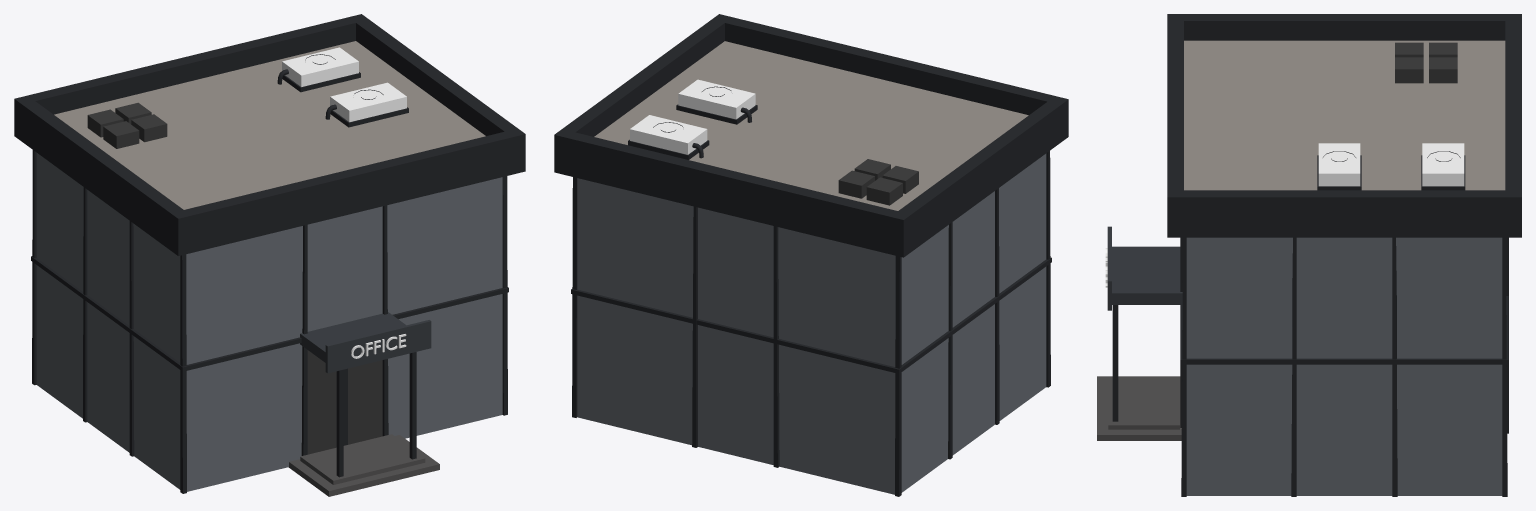
The model's file is Office_1.fbx.
The picture shows the model from 3 angles, left to right: view 1: azimuth 30°, elevation 25°; view 2: azimuth 150°, elevation 25°; view 3: azimuth 270°, elevation 25°; orthographic projection. The views are drawn at different scales.
Visible parts, largest first — view 1: Office_1; view 2: Office_1; view 3: Office_1.
Part boxes in pixels (x1,y1,x2,y2): Office_1: [14, 14, 525, 496]; Office_1: [554, 14, 1068, 496]; Office_1: [1097, 14, 1521, 496].
Size of the model in its own units: 1400 by 1091 by 1372.
